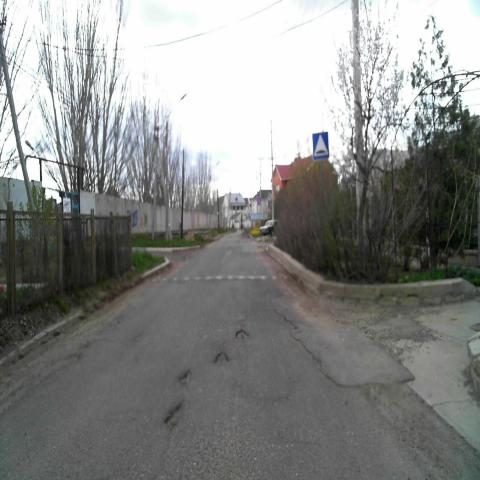5_20: (312, 131, 330, 159)
